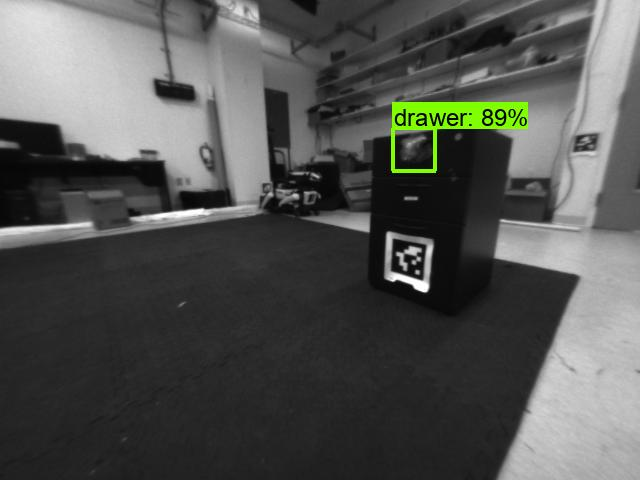drawer: (395, 133, 435, 165)
